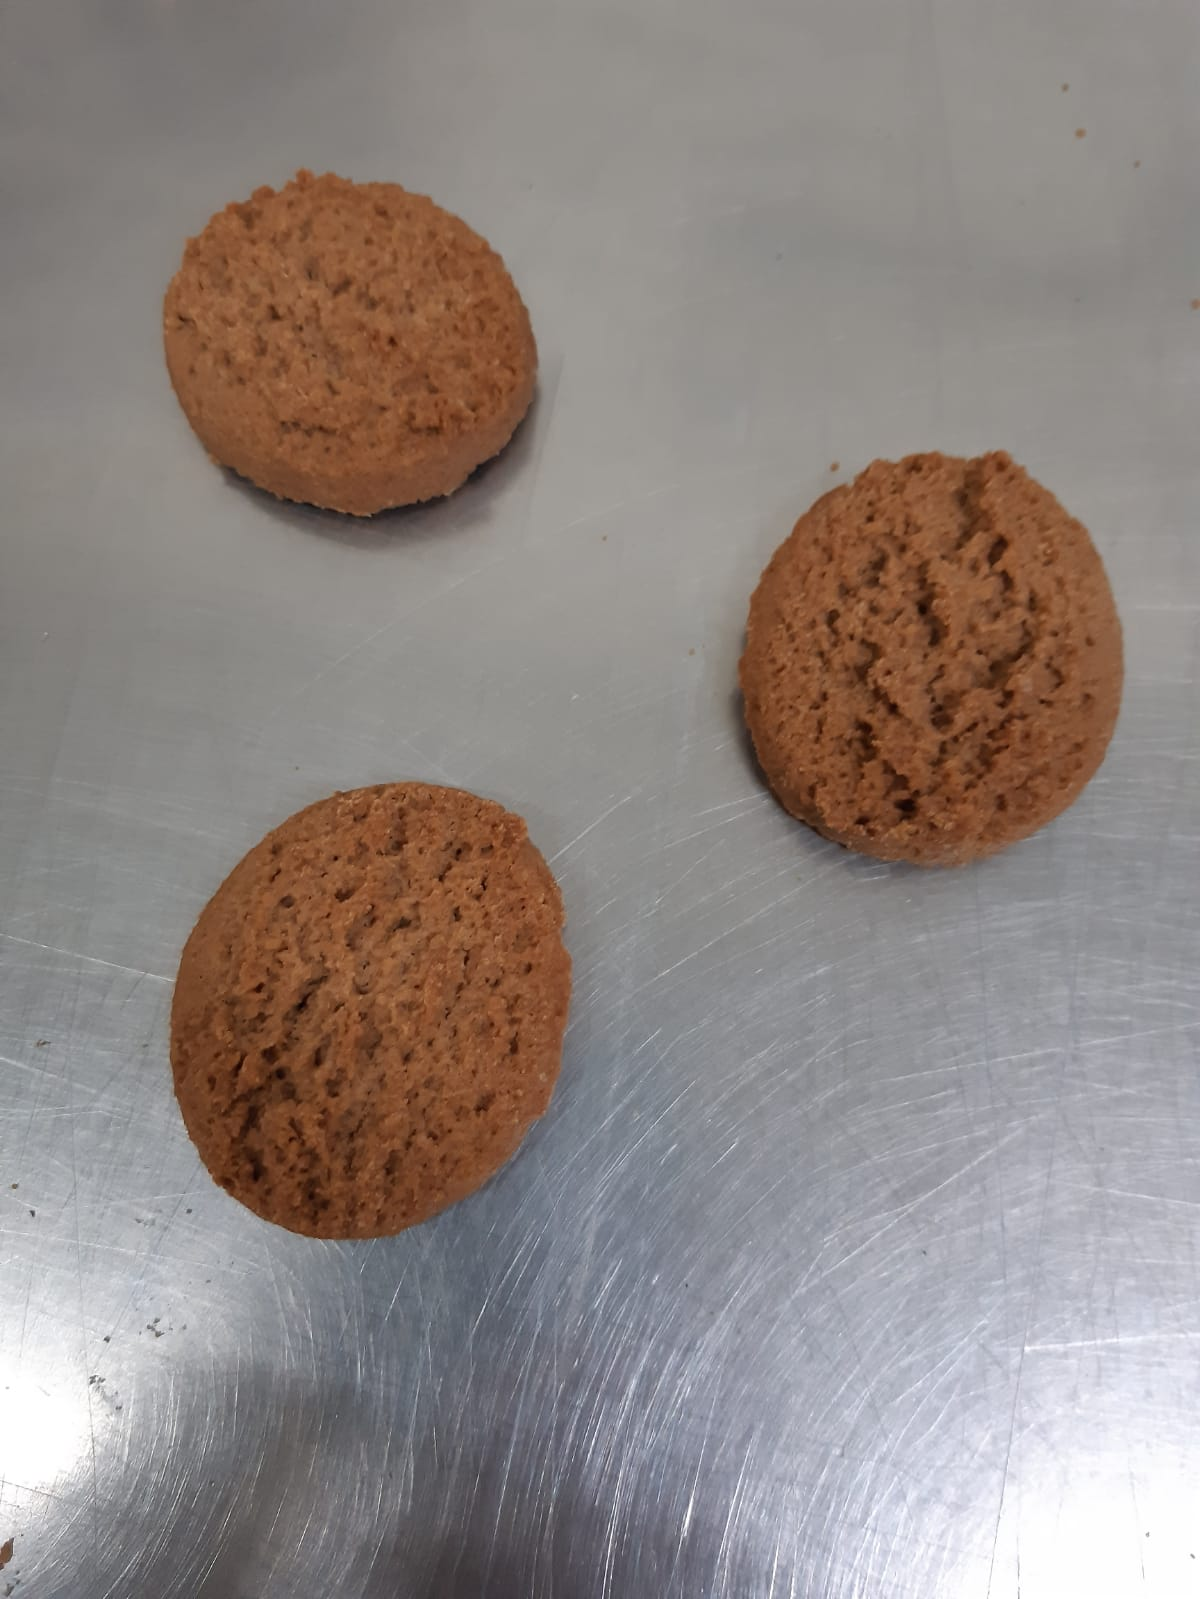Cookie3: (166, 782, 574, 1242), (737, 449, 1126, 864), (164, 173, 539, 522)
